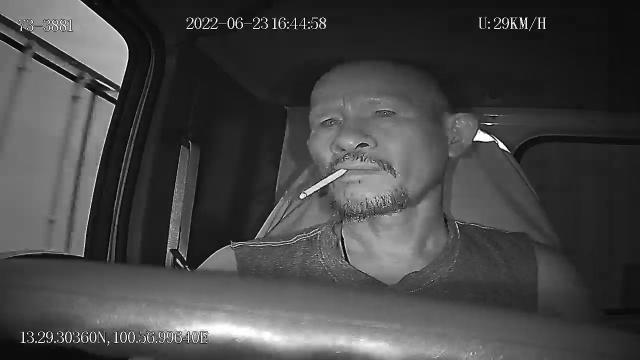SafeDriving: (366, 96, 407, 126), (312, 105, 348, 134)
Smoking: (297, 165, 349, 201)
